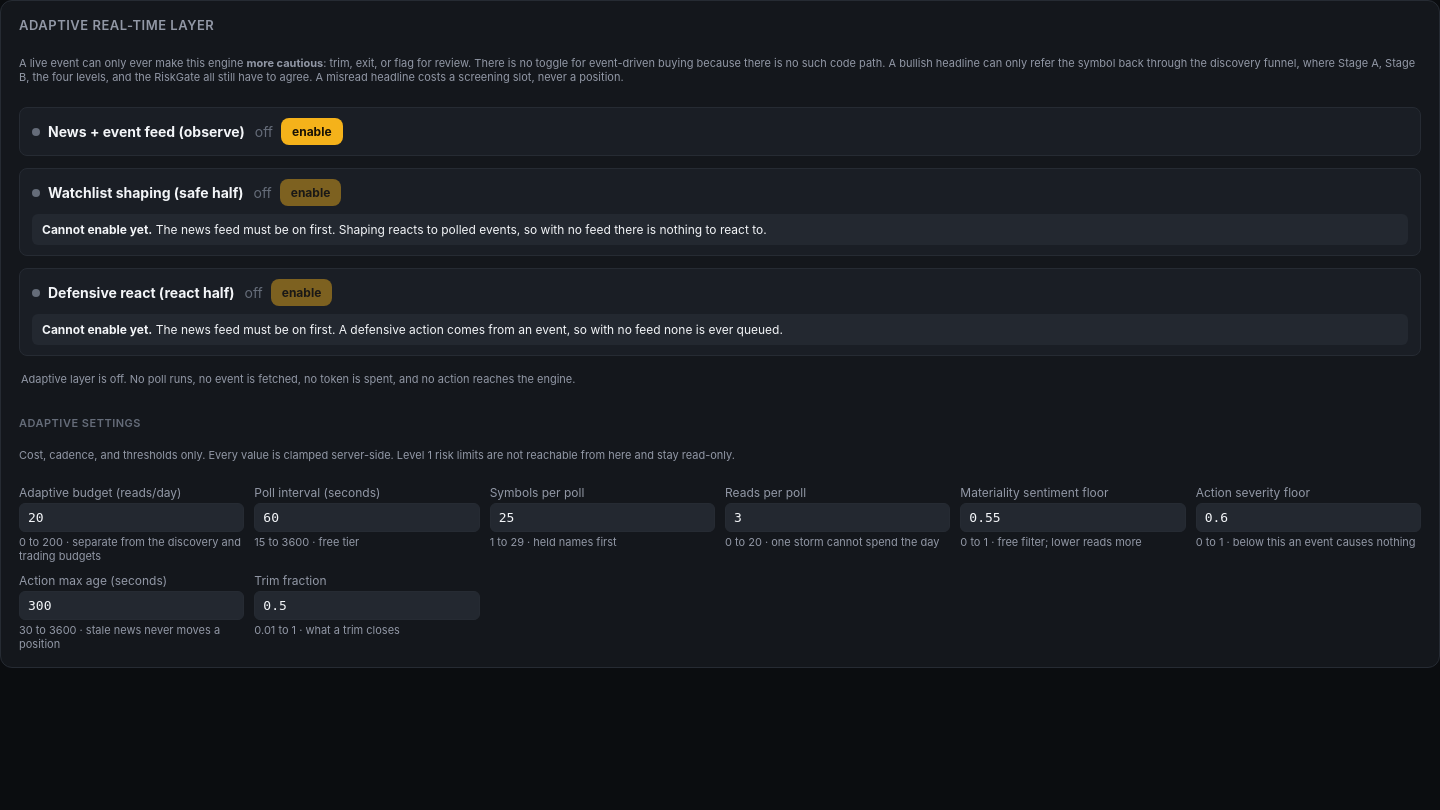
settings › says when the server clamped a value
Replace the text in the number field labelled "Adaptive budget (reads/day)" with "9999" at (132, 518), box [19, 503, 244, 532]
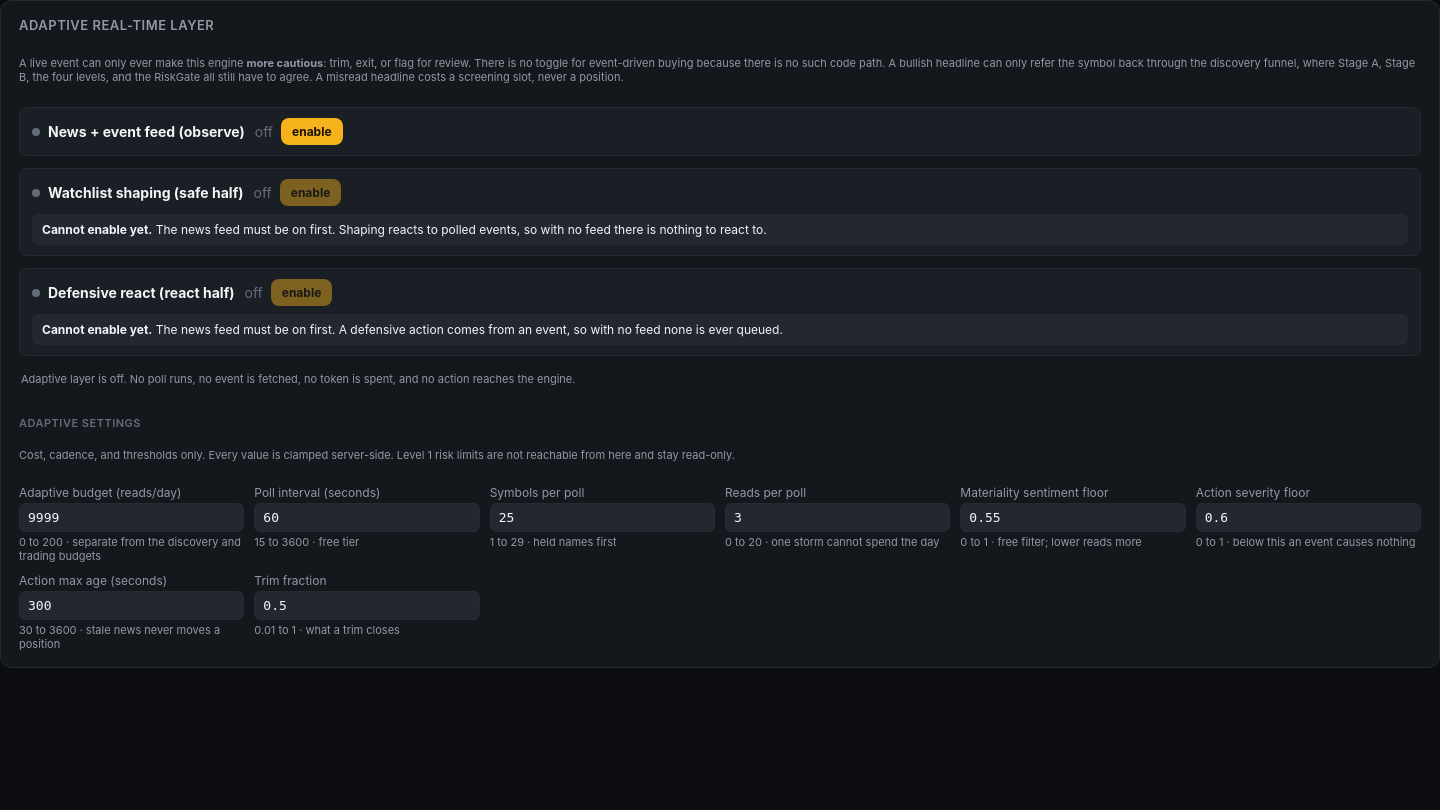
Leave the number field labelled "Adaptive budget (reads/day)", box [19, 503, 244, 532]
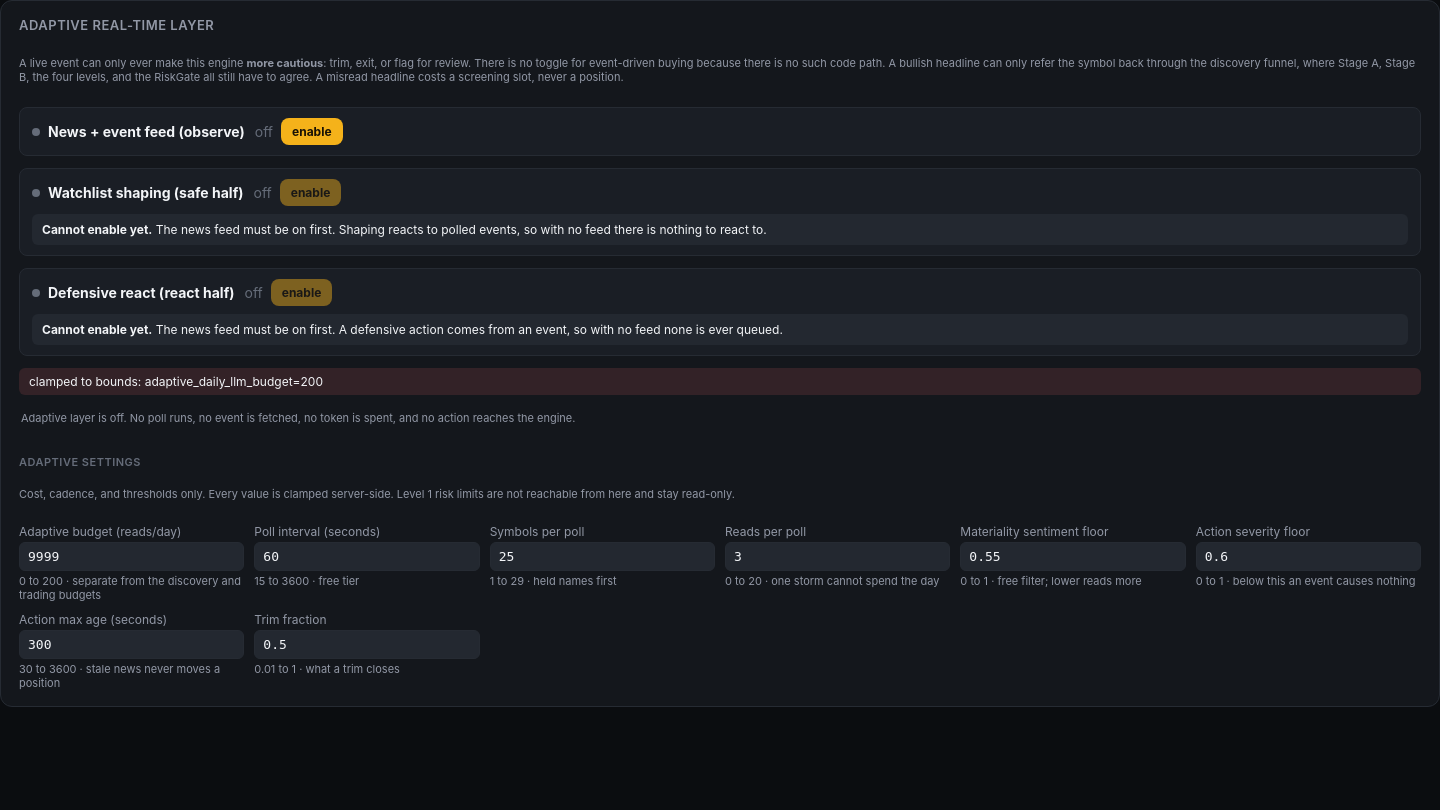
Expected: the text with test id "adaptive-msg" reads "clamped to bounds: adaptive_daily_llm_budget=200", [29, 374, 323, 389]
